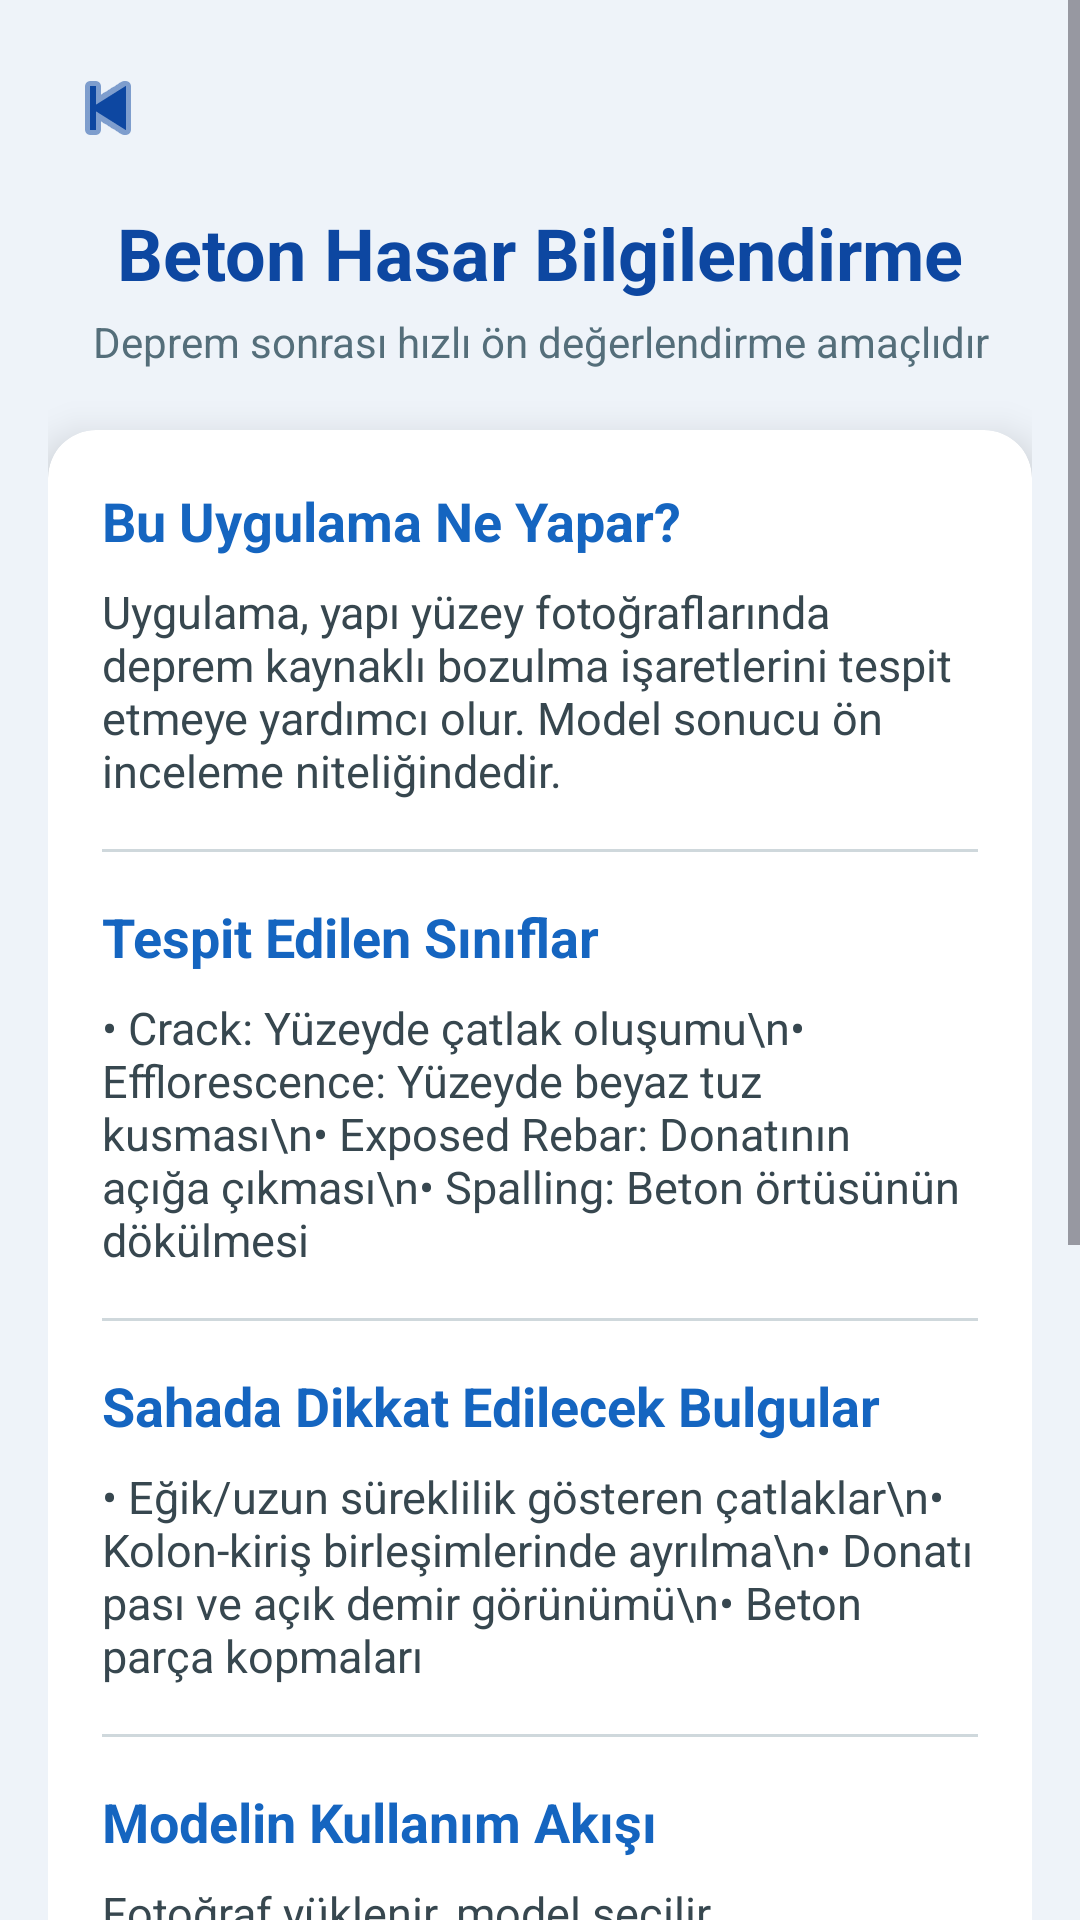

Named icons in this screenshot (1080px x 1920px) and their bounding boxes, detection(x1, y1, x2, y2):
Geri: detection(85, 81, 131, 135)
